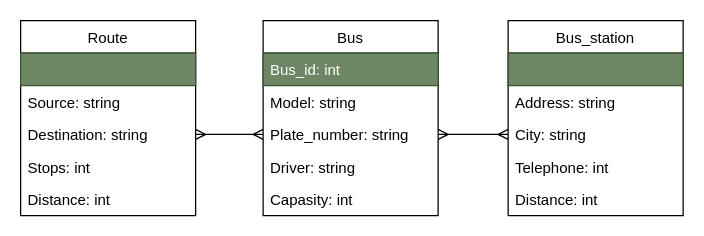
The diagram is 704 pixels wide and 236 high, and some of its shapes have lost their labels. The shapes that lost their labels are listed below. From the top down, each one's centre as x and y in pixels, then its label:
At pixel 107 69: "Route_id: int".
At pixel 595 69: "Station_id: int".
